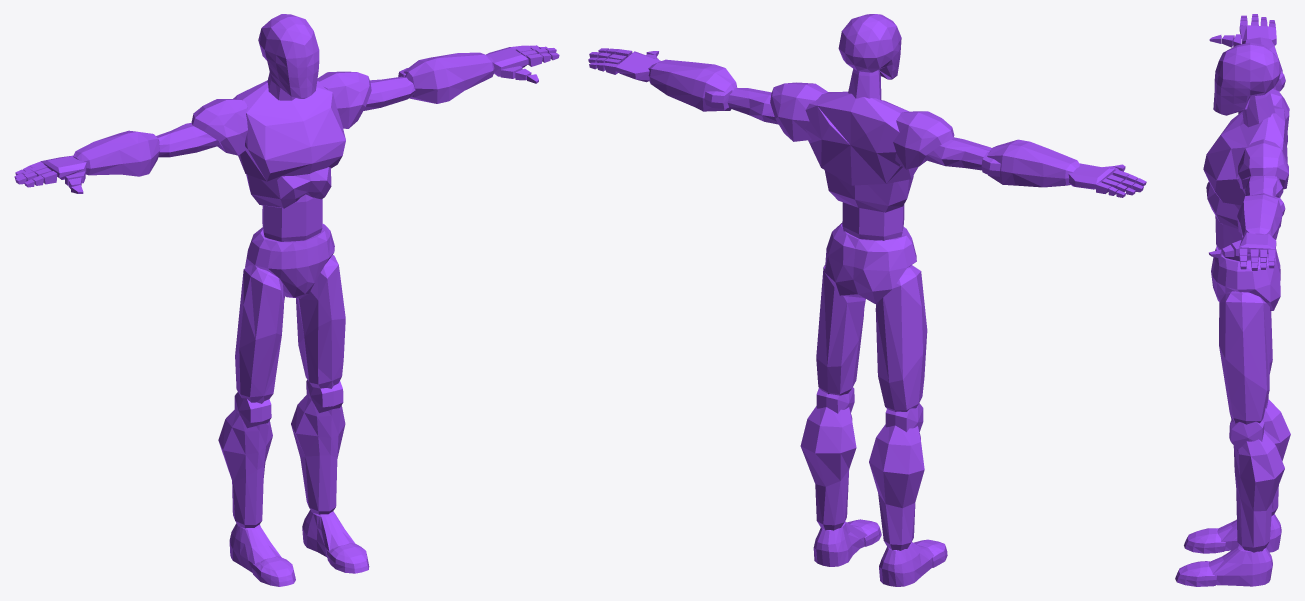
File: dude.obj
The picture shows the model from 3 angles, left to right: view 1: azimuth 30°, elevation 25°; view 2: azimuth 150°, elevation 25°; view 3: azimuth 270°, elevation 25°; orthographic projection. The views are drawn at different scales.
Parts seen in each view (by area): view 1: dude; view 2: dude; view 3: dude.
Part boxes in pixels (x1,y1,x2,y2): dude: (14, 14, 559, 586); dude: (588, 14, 1146, 586); dude: (1175, 14, 1290, 586).
Size of the model in its own units: 416 by 396 by 80.24.
